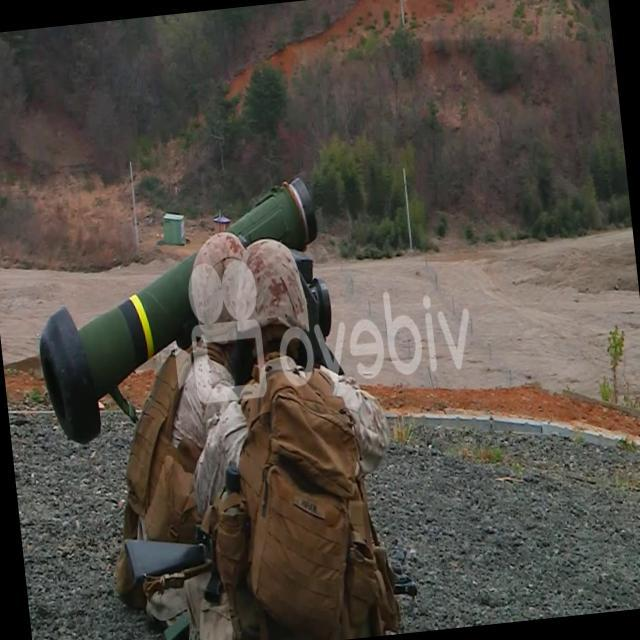rocket: (23, 172, 330, 442)
